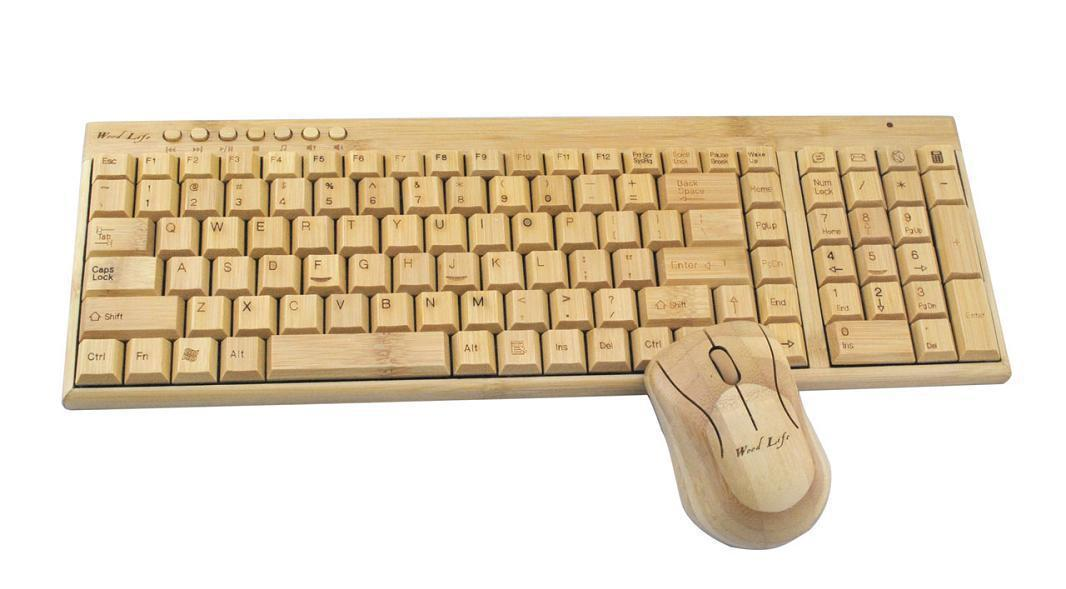keyboard: (63, 111, 1010, 413)
mouse: (643, 319, 835, 553)
